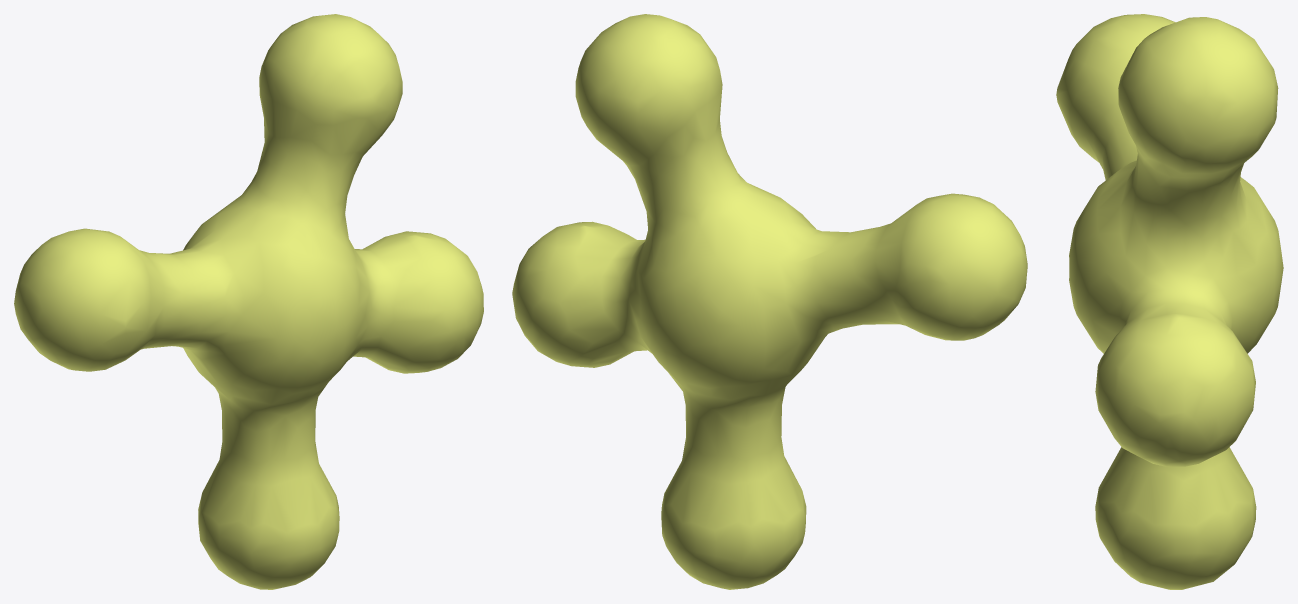
File: lemon-molecule.glb
3 renders of one model, left to right at view 1: azimuth 30°, elevation 25°; view 2: azimuth 150°, elevation 25°; view 3: azimuth 270°, elevation 25°, orthographic. The views are drawn at different scales.
Parts seen in each view (by area): view 1: lemon-molecule; view 2: lemon-molecule; view 3: lemon-molecule.
Boxes of the visible parts, x1,y1,x2,y2 form: lemon-molecule: (14,14,483,589); lemon-molecule: (512,14,1027,589); lemon-molecule: (1056,14,1283,589).
Size of the model in its own units: 1.82 by 2 by 0.6905.
